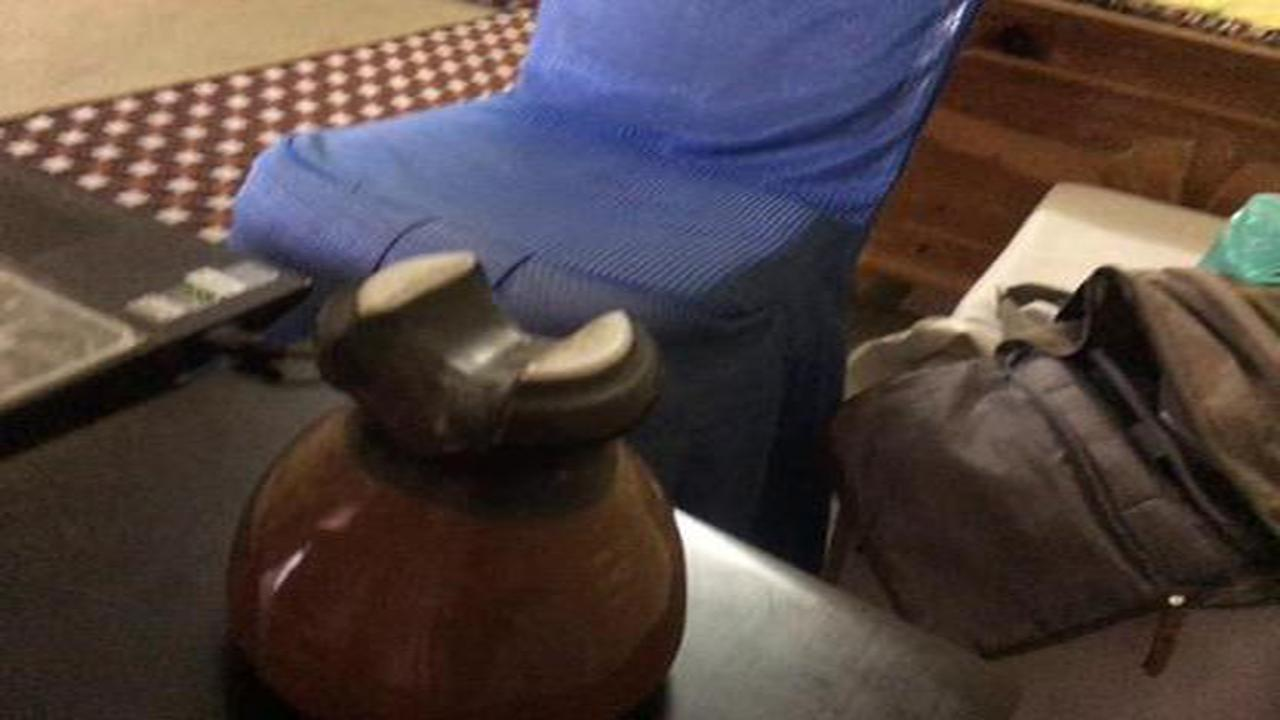insulator_pin: (204, 234, 711, 720)
